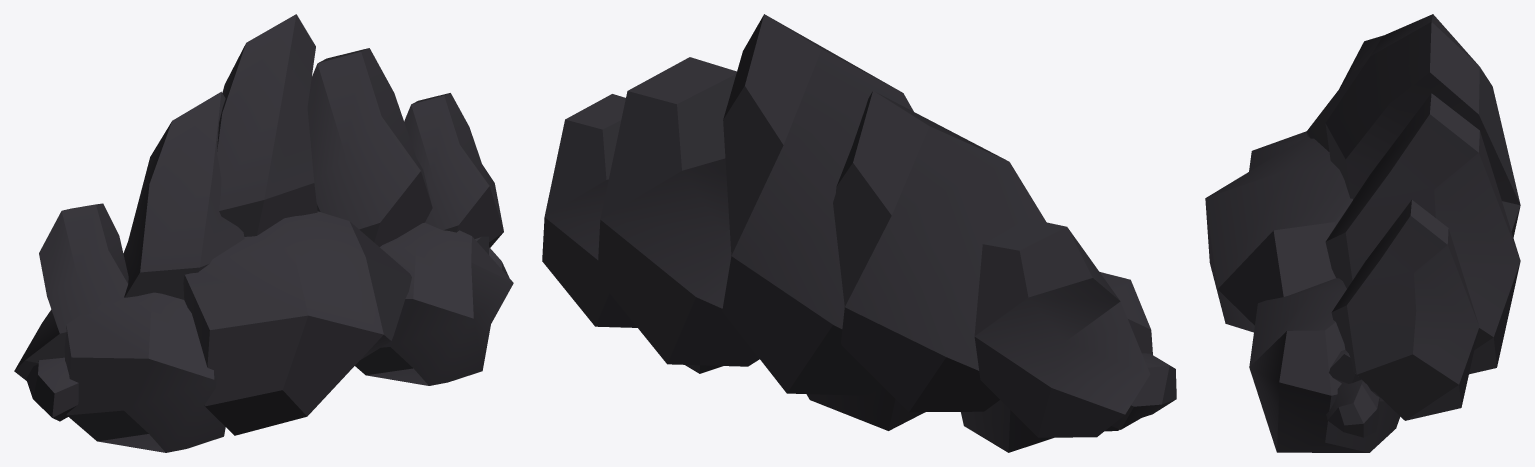
The model's file is Montanha1.fbx.
3 renders of one model, left to right at view 1: azimuth 30°, elevation 25°; view 2: azimuth 150°, elevation 25°; view 3: azimuth 270°, elevation 25°, orthographic. The views are drawn at different scales.
Parts seen in each view (by area): view 1: rock.002; view 2: rock.002; view 3: rock.002.
Boxes of the visible parts, box(x1,y1,x2,y2) form: rock.002: box(14, 14, 513, 452); rock.002: box(542, 14, 1176, 452); rock.002: box(1205, 14, 1520, 452).
Size of the model in its own units: 441 by 294 by 223.
Materials: 1 (1 with a texture image).
